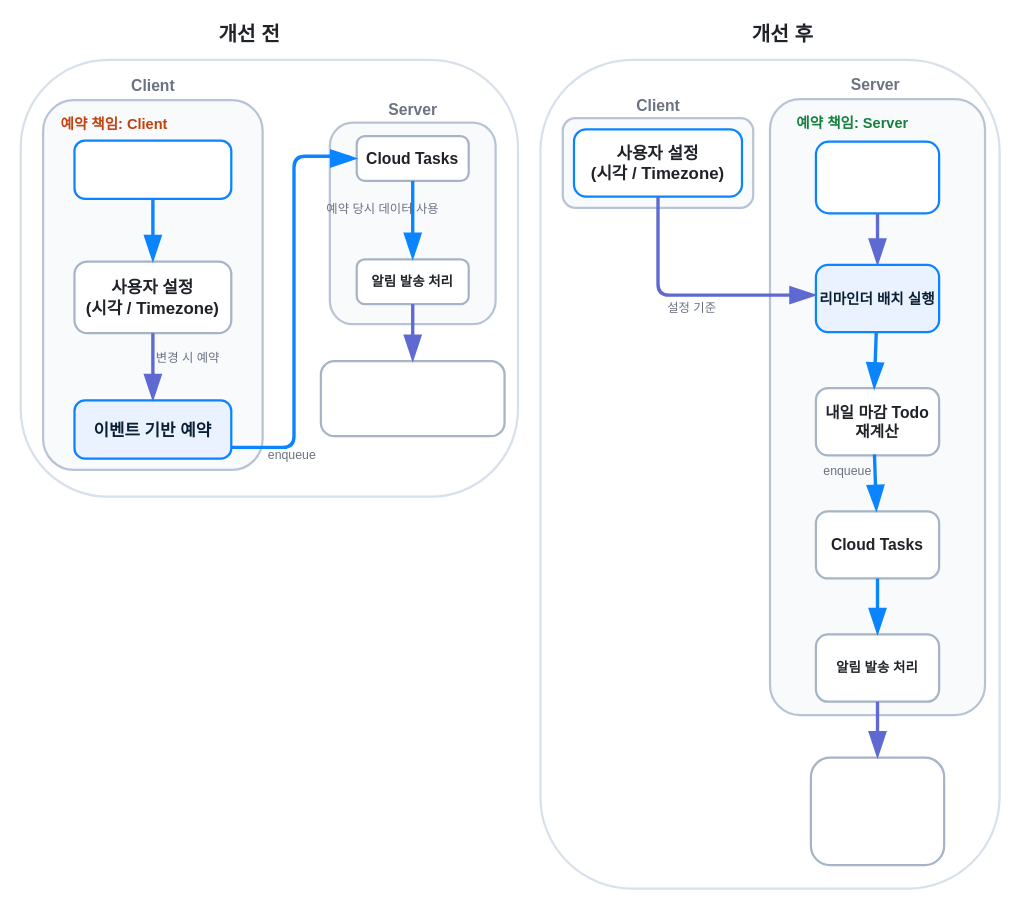
This 1019x917 diagram has some shape labels left out. The shapes that lost their labels are listed below. From the top down, each one's centre as x and y in pixels, then its label:
At (x=152, y=169): "Todo 생성 / 수정".
At (x=877, y=177): "5분 주기 Scheduler".
At (x=412, y=398): "설정 변경 후 예상 시간과 달라질 수 있음 최신 Todo 상태 미반영 가능".
At (x=877, y=811): "설정 변경 이후에도 최신 기준으로 스케줄링 최신 Todo 상태 반영".
